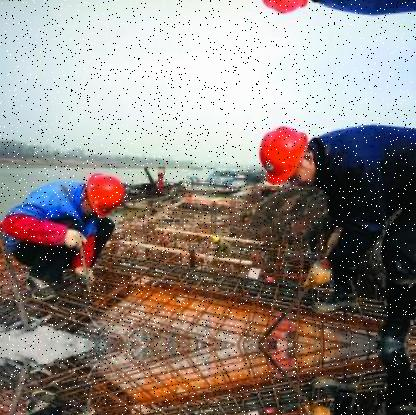helmet: (256, 123, 317, 186), (81, 168, 128, 217), (255, 0, 317, 16)
